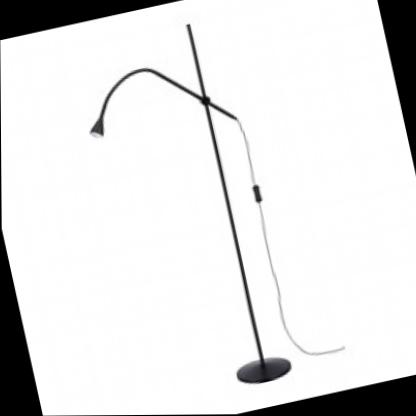Lamp: (57, 5, 314, 416)
